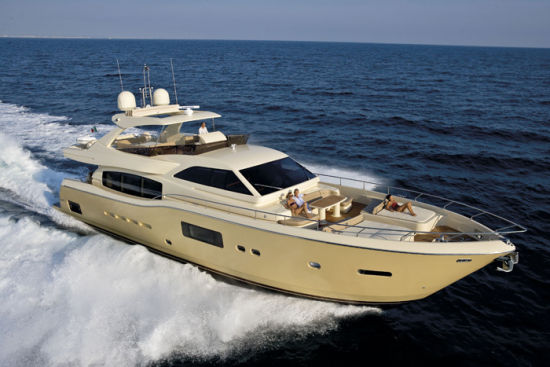yacht: (33, 81, 526, 307)
